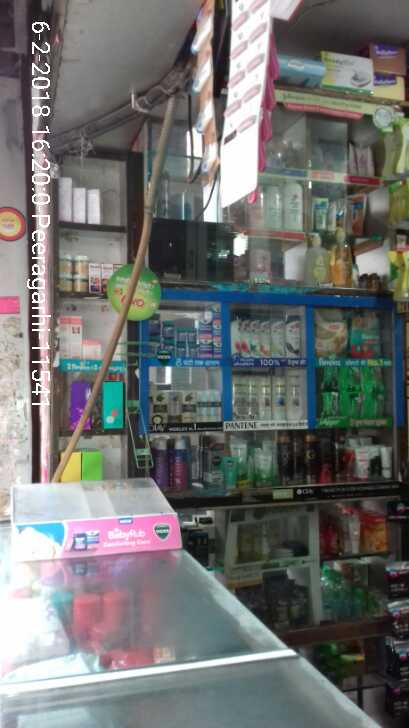vicks: (146, 304, 223, 365)
